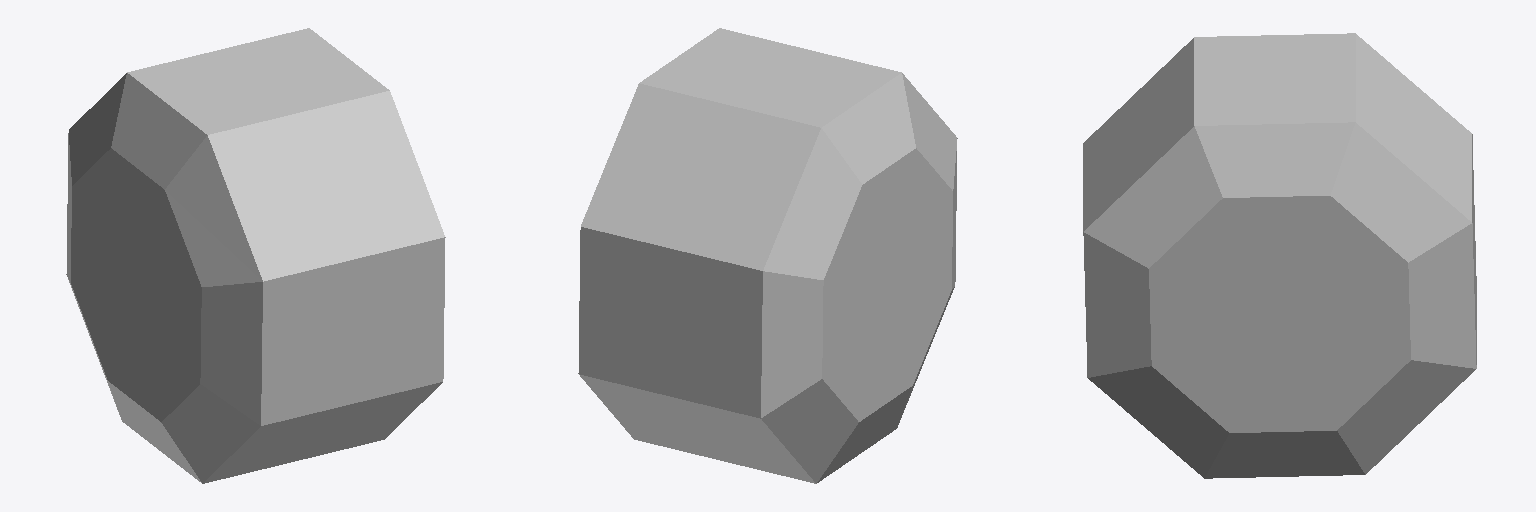
Rendered from MarsRover-Wheel.obj.
3 views of the same model, side by side, from view 1: azimuth 30°, elevation 25°; view 2: azimuth 150°, elevation 25°; view 3: azimuth 270°, elevation 25° (orthographic).
Visible parts, largest first — view 1: Wheel; view 2: Wheel; view 3: Wheel.
Part boxes in pixels (x1,y1,x2,y2): Wheel: (66, 28, 445, 483); Wheel: (578, 28, 957, 483); Wheel: (1083, 33, 1476, 478).
Size of the model in its own units: 1.06 by 1.51 by 1.51.